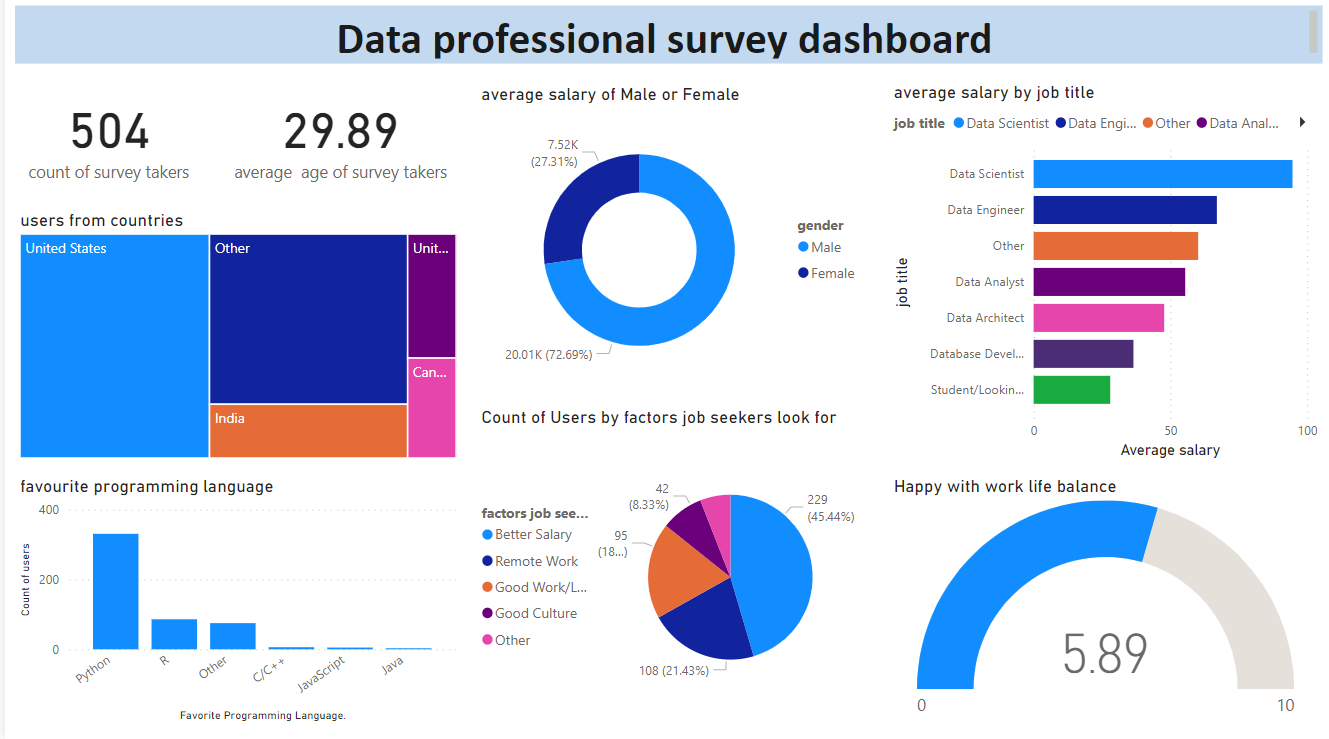

The page's visual inventory and layout, read from the dashboard file:
{"tool":"powerbi","page":{"name":"Page 1","canvas":[1280,720],"ordinal":0},"visuals":[{"type":"textbox","box":[9.5,12.3,1261.5,55.9],"z":0},{"type":"card","fields":{"Values":["CountNonNull(Data Professional Survey.Unique ID)"]},"box":[9.5,85.8,181.2,103.5],"z":1000},{"type":"card","fields":{"Values":["Avg(Data Professional Survey.Q10 - Current Age)"]},"box":[207.1,85.8,233,103.5],"z":2000},{"type":"barChart","title":"average salary by job title","fields":{"Category":["Data Professional Survey.Q1 - Which Title Best Fits your Current Role?.1"],"Y":["Avg(Data Professional Survey.average salary)"],"Series":["Data Professional Survey.Q1 - Which Title Best Fits your Current Role?.1"]},"box":[852.8,85.8,418.2,367.8],"z":3000},{"type":"clusteredColumnChart","title":"favourite programming language","fields":{"Category":["Data Professional Survey.Q5 - Favorite Programming Language.1"],"Y":["CountNonNull(Data Professional Survey.Unique ID)"]},"box":[9.5,465.9,430.5,242.5],"z":4000},{"type":"treemap","title":"users from countries","fields":{"Group":["Data Professional Survey.Q11 - Which Country do you live in?.1"],"Values":["CountNonNull(Data Professional Survey.Q11 - Which Country do you live in?.1)"]},"box":[9.5,208.4,430.5,245.2],"z":5000},{"type":"gauge","title":"Happy with work life balance","fields":{"Y":["Avg(Data Professional Survey.Q6 - How Happy are you in your Current Position with the following? (Coworkers))"],"MinValue":["Min(Data Professional Survey.Q6 - How Happy are you in your Current Position with the following? (Coworkers))1"],"MaxValue":["Max(Data Professional Survey.Q6 - How Happy are you in your Current Position with the following? (Coworkers))2"]},"box":[852.8,465.9,418.2,242.5],"z":5002},{"type":"donutChart","title":" average salary of Male or Female","fields":{"Category":["Data Professional Survey.Q9 - Male/Female?"],"Y":["Sum(Data Professional Survey.average salary)"]},"box":[455.2,86.4,379.8,303],"z":5003},{"type":"pieChart","fields":{"Category":["Data Professional Survey.Q8 - If you were to look for a new job today, what would be the most important t"],"Y":["CountNonNull(Data Professional Survey.Unique ID)"]},"box":[455.2,399,379.8,309.9],"z":5004}]}

Visuals, with their boxes in screenshot pixels (x1, y1, x2, y2), scaled from the page's 1280x720 canvas onto the 1329x739 screenshot:
textbox: Rect(10, 13, 1320, 70)
card - CountNonNull(Data Professional Survey.Unique ID): Rect(10, 88, 198, 194)
card - Avg(Data Professional Survey.Q10 - Current Age): Rect(215, 88, 457, 194)
"average salary by job title" barChart: Rect(885, 88, 1320, 466)
"favourite programming language" clusteredColumnChart: Rect(10, 478, 457, 727)
"users from countries" treemap: Rect(10, 214, 457, 466)
"Happy with work life balance" gauge: Rect(885, 478, 1320, 727)
" average salary of Male or Female" donutChart: Rect(473, 89, 867, 400)
pieChart - Data Professional Survey.Q8 - If you were to look for a new job today, what would be the most important t x CountNonNull(Data Professional Survey.Unique ID): Rect(473, 410, 867, 728)
